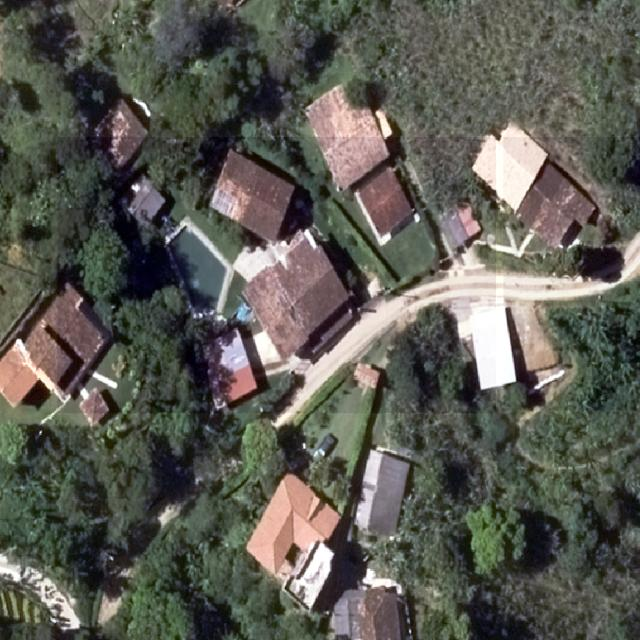Batiment: (244, 233, 349, 359), (25, 283, 111, 396), (248, 474, 339, 577), (306, 85, 389, 189), (210, 150, 294, 240), (518, 161, 598, 247), (472, 124, 548, 211), (354, 166, 414, 245), (355, 450, 410, 535), (331, 585, 411, 639), (205, 328, 258, 408), (95, 98, 148, 169), (471, 306, 516, 388), (288, 542, 334, 609), (0, 346, 38, 407), (442, 204, 481, 247), (129, 177, 165, 221), (80, 388, 109, 425)
